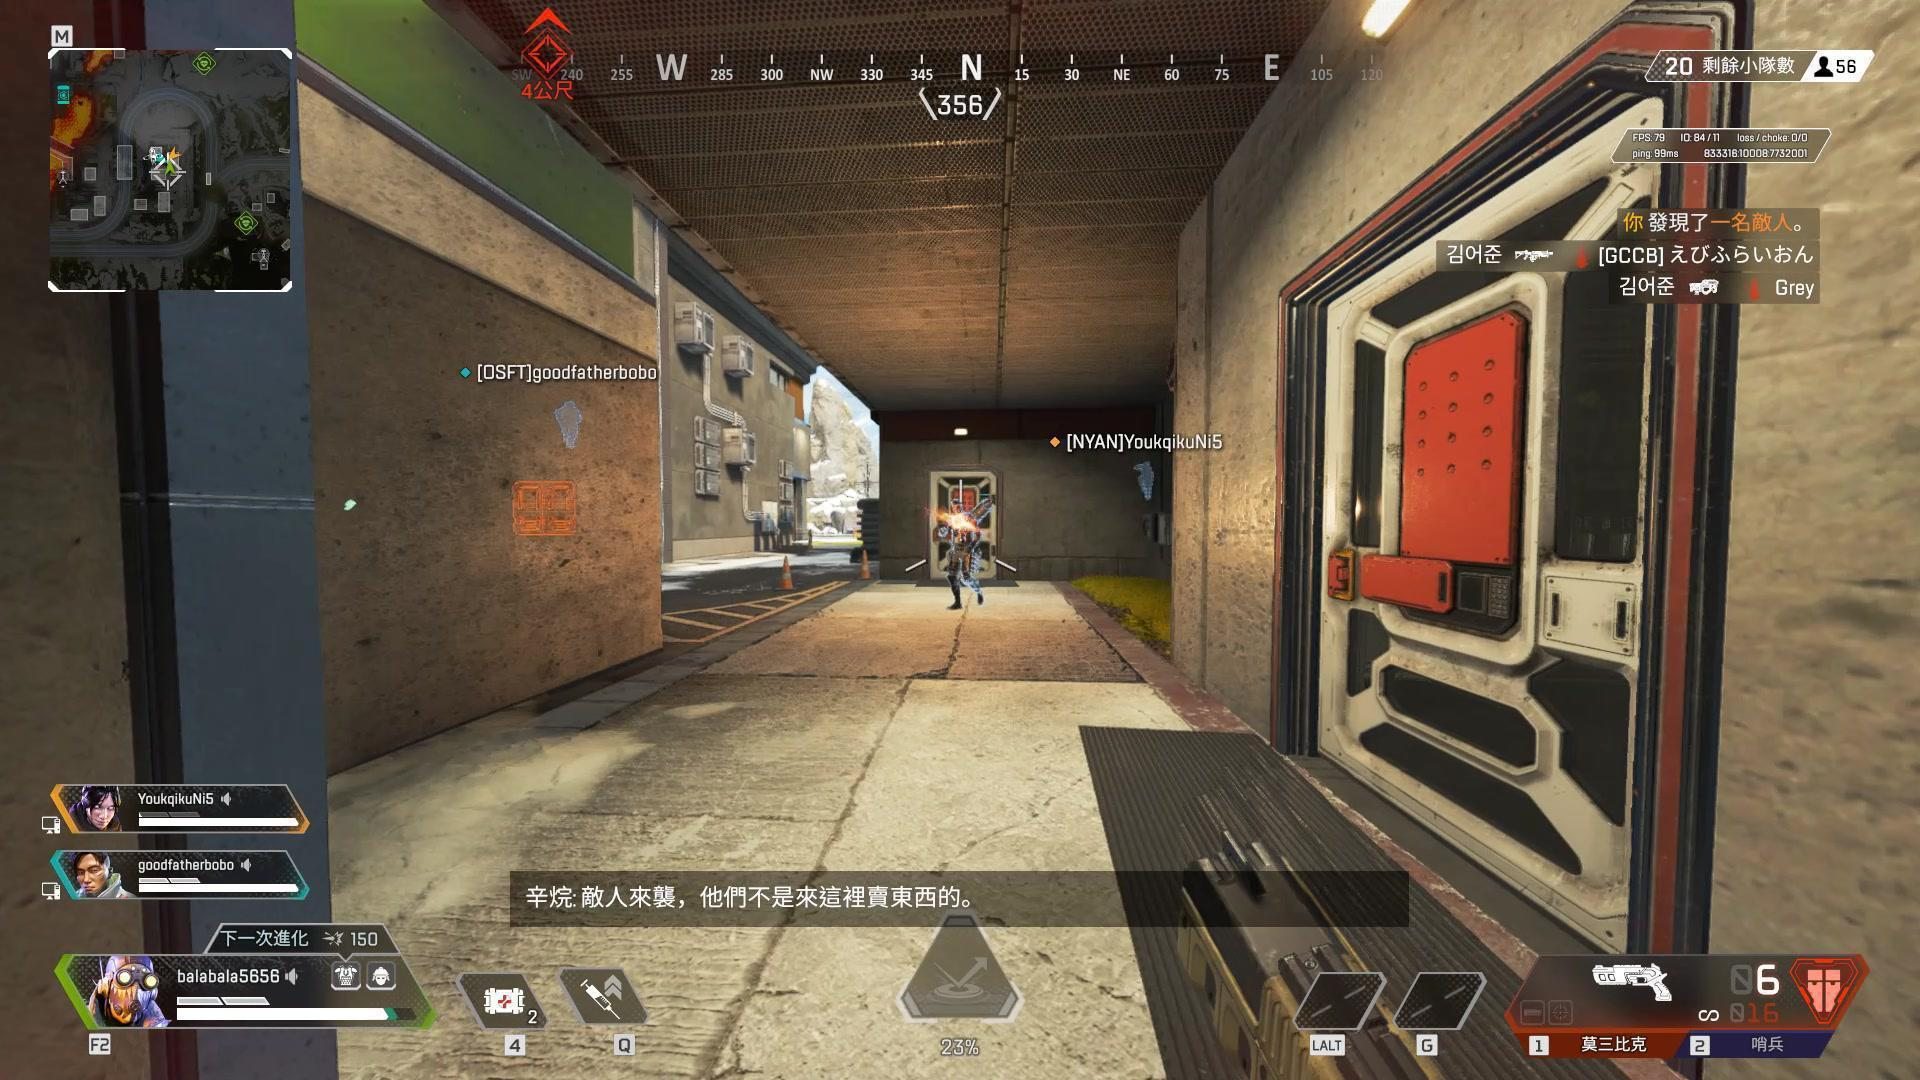avatar: (934, 501, 987, 613)
object: (940, 507, 978, 535)
